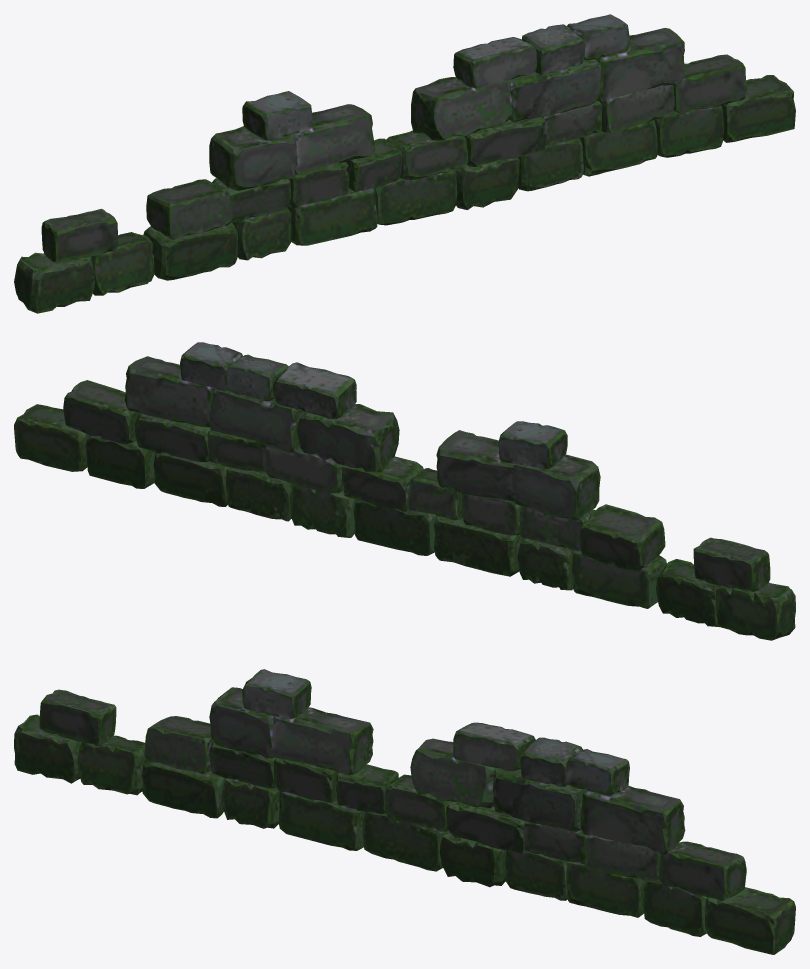
The model's file is StoneFence2.fbx.
3 renders of one model, top to bottom at view 1: azimuth 30°, elevation 25°; view 2: azimuth 150°, elevation 25°; view 3: azimuth 330°, elevation 25°, orthographic.
Visible parts, largest first — view 1: StoneFence2_LOD0; view 2: StoneFence2_LOD0; view 3: StoneFence2_LOD0.
Part boxes in pixels (<box>): StoneFence2_LOD0: <box>14,14,795,313</box>; StoneFence2_LOD0: <box>14,342,795,640</box>; StoneFence2_LOD0: <box>14,669,795,954</box>.
Size of what is drawn, in the model's own units: 3.23 by 0.202 by 0.5998.
